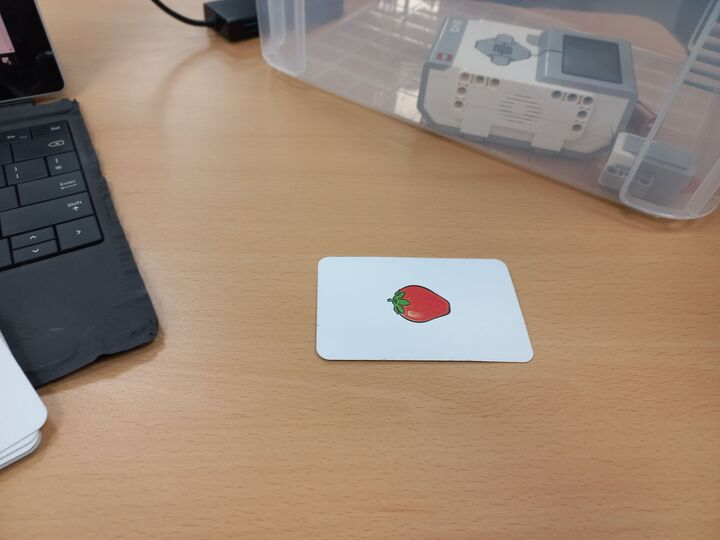strawberry1: (315, 252, 536, 366)
